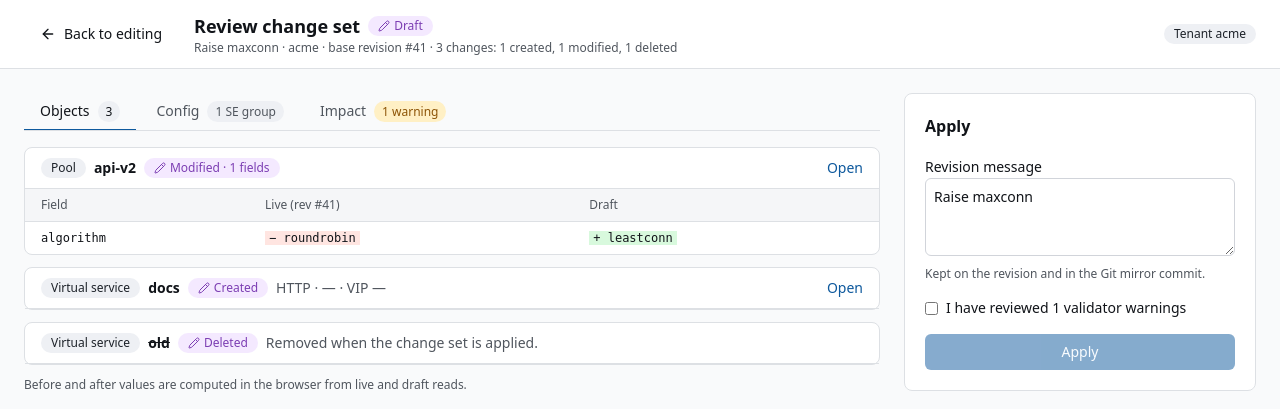
it: review screen › warnings need an acknowledgement before applying
This screenshot has width=1280, height=409.
expect the button "Apply" is disabled: met, box [925, 334, 1235, 370]
Step 1. Click the checkbox labelled "I have reviewed 1 validator warnings" → (932,308), box [925, 302, 938, 314]
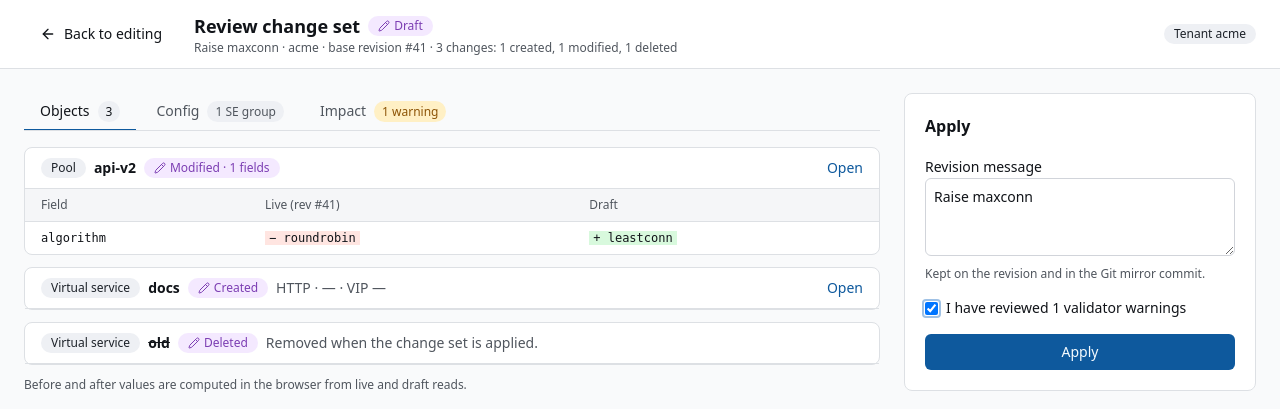
expect the button "Apply" is enabled: met, box [925, 334, 1235, 370]
